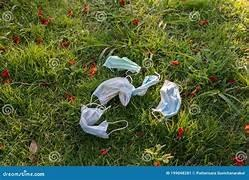Mask: (80, 106, 127, 138), (92, 77, 134, 105), (153, 80, 180, 117), (103, 56, 140, 72), (132, 75, 159, 95)
